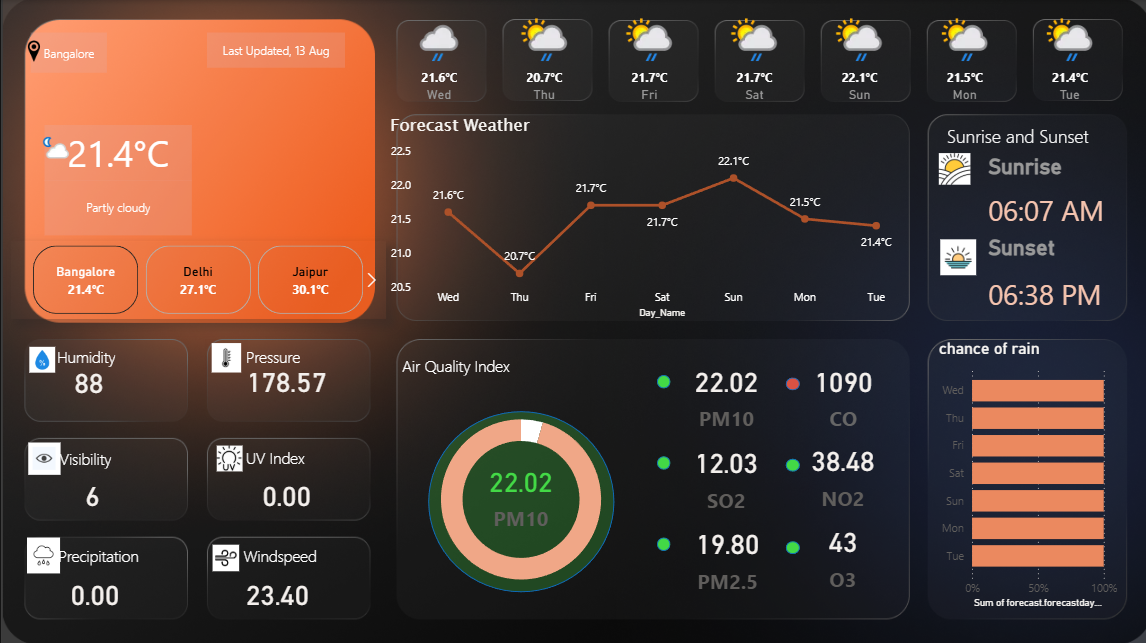

The page's visual inventory and layout, read from the dashboard file:
{"tool":"powerbi","page":{"name":"Page 1","canvas":[1280,720],"ordinal":0},"visuals":[{"type":"shape","box":[474.3,457.1,207.1,201.4],"z":0},{"type":"advancedSlicerVisual","fields":{"Values":["Location.location.name"]},"box":[9.7,268.5,417.4,86.3],"z":1000},{"type":"shape","box":[47.1,138.6,164.3,61.4],"z":2000},{"type":"shape","box":[47.1,200,164.3,61.4],"z":3000},{"type":"shape","box":[31.4,35.9,85.2,44.8],"z":4000},{"type":"shape","box":[228.6,35.9,153.9,38.8],"z":5000},{"type":"image","box":[9,38.8,53.8,37.3],"z":6000},{"type":"cardVisual","fields":{"Data":["Min(current.current.condition.icon)"]},"box":[20.9,125.5,82.2,89.6],"z":7000},{"type":"image","box":[28.8,492.6,35.7,35.7],"z":8000},{"type":"image","box":[27.4,598.3,37,39.8],"z":9000},{"type":"image","box":[0,381.5,89.2,38.4],"z":10000},{"type":"image","box":[225,491.3,56.3,38.4],"z":11000},{"type":"image","box":[229.2,598.3,39.8,45.3],"z":12000},{"type":"image","box":[225,377.4,48,42.5],"z":13000},{"type":"shape","box":[61.7,377.4,153.7,39.8],"z":14000},{"type":"shape","box":[269,598.3,153.7,39.8],"z":15000},{"type":"shape","box":[64.5,491.3,153.7,38.4],"z":16000},{"type":"shape","box":[271.7,489.9,155.1,38.4],"z":17000},{"type":"shape","box":[271.4,377.1,154.3,40],"z":18000},{"type":"shape","box":[63.1,598.3,153.7,39.8],"z":19000},{"type":"card","fields":{"Values":["Sum(current.current.humidity)"]},"box":[73.7,401.7,46.2,46.2],"z":20000},{"type":"card","fields":{"Values":["Sum(current.current.pressure_in)"]},"box":[189,401.2,255.2,45.4],"z":21000},{"type":"card","fields":{"Values":["Sum(current.current.wind_kph)"]},"box":[232.6,638.7,148.8,44.8],"z":22000},{"type":"card","fields":{"Values":["Sum(current.current.uv)"]},"box":[189.3,528.9,255.8,44.8],"z":23000},{"type":"card","fields":{"Values":["Sum(current.current.precip_in)"]},"box":[65,638.7,76.6,44.8],"z":24000},{"type":"card","fields":{"Values":["Sum(current.current.vis_km)"]},"box":[65,527.4,70.8,46.2],"z":25000},{"type":"advancedSlicerVisual","fields":{"Values":["forcast_day.Day_Name"]},"box":[427,4.9,823.3,139.9],"z":26000},{"type":"lineChart","title":"Forecast Weather","fields":{"Y":["Sum(forcast_day.forecast.forecastday.day.avgtemp_c)"],"Category":["forcast_day.Day_Name"]},"box":[427.1,125.7,582.9,234.3],"z":27000},{"type":"shape","box":[1051.4,130.8,194.7,38.9],"z":28000},{"type":"shape","title":"Sunrise","box":[1098.1,171.3,182.2,91.9],"z":29000},{"type":"shape","title":"Sunset","box":[1098.1,261.7,182.2,98.1],"z":30000},{"type":"image","box":[1038.5,160.3,44.9,56.4],"z":31000},{"type":"image","box":[1038.5,261.5,52.6,50],"z":32000},{"type":"hundredPercentStackedBarChart","title":"chance of rain","fields":{"Y":["Sum(forcast hour.forecast.forecastday.hour.chance_of_rain)","current.left_val_rain"],"Category":["forcast_day.Day_Name"]},"box":[1038,376.7,208.6,305.5],"z":33000},{"type":"shape","box":[445.7,387.1,250,40],"z":34000},{"type":"card","fields":{"Values":["Sum(current.current.air_quality.pm10)"]},"box":[718.6,388.6,177.1,101.4],"z":35000},{"type":"card","fields":{"Values":["Sum(current.current.air_quality.o3)"]},"box":[808.6,572.9,255.7,88.6],"z":36000},{"type":"card","fields":{"Values":["Sum(current.current.air_quality.no2)"]},"box":[808.6,481.4,255.7,91.4],"z":37000},{"type":"card","fields":{"Values":["Sum(current.current.air_quality.co)"]},"box":[868.6,397.1,137.1,84.3],"z":38000},{"type":"card","fields":{"Values":["Sum(current.current.air_quality.so2)"]},"box":[718.6,475.7,177.1,107.1],"z":39000},{"type":"card","fields":{"Values":["Sum(current.current.air_quality.pm2_5)"]},"box":[747.1,565.7,121.4,107.1],"z":40000},{"type":"shape","box":[728.6,417.1,15,15],"z":41000},{"type":"shape","box":[728.6,507.1,15,15],"z":42000},{"type":"shape","box":[728.6,598.6,15,15],"z":43000},{"type":"shape","box":[872.9,420,15.7,14.3],"z":44000},{"type":"shape","box":[872.9,510,15.7,14.3],"z":45000},{"type":"shape","box":[872.9,602.9,15.7,14.3],"z":46000},{"type":"donutChart","fields":{"Y":["Sum(current.current.air_quality.pm10)","measure.left_val_pm10"]},"box":[318.6,440,518.6,232.9],"z":47000},{"type":"card","fields":{"Values":["Sum(current.current.air_quality.pm10)"]},"box":[511.4,508.6,131.4,81.4],"z":48000}]}

Visuals, with their boxes in screenshot pixels (x1, y1, x2, y2), scaled from the page's 1280x720 canvas onto the 1146x643 screenshot:
shape: BBox(425, 408, 610, 588)
advancedSlicerVisual - Location.location.name: BBox(9, 240, 382, 317)
shape: BBox(42, 124, 189, 179)
shape: BBox(42, 179, 189, 233)
shape: BBox(28, 32, 104, 72)
shape: BBox(205, 32, 342, 67)
image: BBox(8, 35, 56, 68)
cardVisual - Min(current.current.condition.icon): BBox(19, 112, 92, 192)
image: BBox(26, 440, 58, 472)
image: BBox(25, 534, 58, 570)
image: BBox(0, 341, 80, 375)
image: BBox(201, 439, 252, 473)
image: BBox(205, 534, 241, 575)
image: BBox(201, 337, 244, 375)
shape: BBox(55, 337, 193, 373)
shape: BBox(241, 534, 378, 570)
shape: BBox(58, 439, 195, 473)
shape: BBox(243, 438, 382, 472)
shape: BBox(243, 337, 381, 372)
shape: BBox(56, 534, 194, 570)
card - Sum(current.current.humidity): BBox(66, 359, 107, 400)
card - Sum(current.current.pressure_in): BBox(169, 358, 398, 399)
card - Sum(current.current.wind_kph): BBox(208, 570, 341, 610)
card - Sum(current.current.uv): BBox(169, 472, 399, 512)
card - Sum(current.current.precip_in): BBox(58, 570, 127, 610)
card - Sum(current.current.vis_km): BBox(58, 471, 122, 512)
advancedSlicerVisual - forcast_day.Day_Name: BBox(382, 4, 1119, 129)
"Forecast Weather" lineChart: BBox(382, 112, 904, 322)
shape: BBox(941, 117, 1116, 152)
"Sunrise" shape: BBox(983, 153, 1145, 235)
"Sunset" shape: BBox(983, 234, 1145, 321)
image: BBox(930, 143, 970, 194)
image: BBox(930, 234, 977, 278)
"chance of rain" hundredPercentStackedBarChart: BBox(929, 336, 1116, 609)
shape: BBox(399, 346, 623, 381)
card - Sum(current.current.air_quality.pm10): BBox(643, 347, 802, 438)
card - Sum(current.current.air_quality.o3): BBox(724, 512, 953, 591)
card - Sum(current.current.air_quality.no2): BBox(724, 430, 953, 512)
card - Sum(current.current.air_quality.co): BBox(778, 355, 900, 430)
card - Sum(current.current.air_quality.so2): BBox(643, 425, 802, 520)
card - Sum(current.current.air_quality.pm2_5): BBox(669, 505, 778, 601)
shape: BBox(652, 372, 666, 386)
shape: BBox(652, 453, 666, 466)
shape: BBox(652, 535, 666, 548)
shape: BBox(782, 375, 796, 388)
shape: BBox(782, 455, 796, 468)
shape: BBox(782, 538, 796, 551)
donutChart - Sum(current.current.air_quality.pm10) x measure.left_val_pm10: BBox(285, 393, 750, 601)
card - Sum(current.current.air_quality.pm10): BBox(458, 454, 576, 527)
